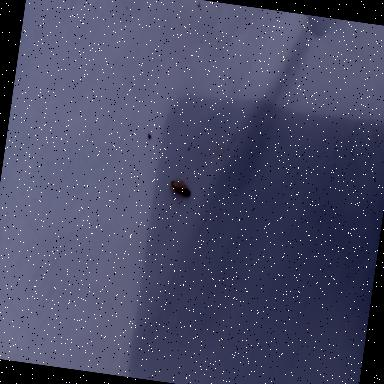pbw: (168, 175, 192, 199)
